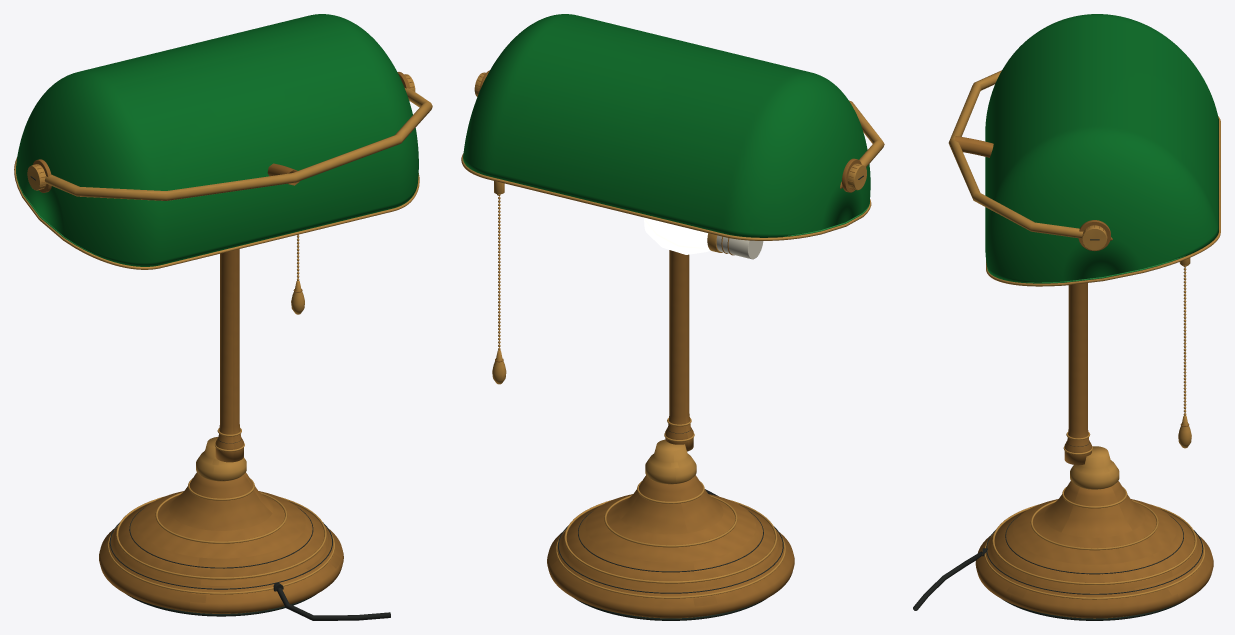
Rendered from BankersLamp.fbx.
The picture shows the model from 3 angles, left to right: view 1: azimuth 30°, elevation 25°; view 2: azimuth 150°, elevation 25°; view 3: azimuth 270°, elevation 25°; orthographic projection. The views are drawn at different scales.
Visible parts, largest first — view 1: Shade_GreenGlass, Base_SpunBrass, Shade_RearYoke, Stem_CurvedBrass, Shade_RolledBrassLip, Stem_Collar, Base_PolishedMolding_02, Cord_RearLead, Base_PolishedMolding_01, Base_PolishedMolding_03; view 2: Shade_GreenGlass, Base_SpunBrass, Stem_CurvedBrass, Stem_Collar, Shade_RolledBrassLip, Bulb_OpalTube, Base_PolishedMolding_02, Socket_CeramicSleeve, Base_PolishedMolding_01, Shade_RearYoke, Base_PolishedMolding_03; view 3: Shade_GreenGlass, Base_SpunBrass, Stem_CurvedBrass, Shade_RearYoke, Stem_Collar, Shade_RolledBrassLip, Base_PolishedMolding_02, Base_PolishedMolding_01, Base_PolishedMolding_03, Stem_RearSwanNeck, Shade_PivotCap_1, Cord_RearLead (+2 smaller).
Part boxes in pixels (x1,y1,x2,y2): Shade_GreenGlass: (16, 14, 418, 266); Base_SpunBrass: (99, 472, 343, 613); Shade_RearYoke: (45, 88, 432, 200); Stem_CurvedBrass: (215, 249, 243, 462); Shade_RolledBrassLip: (14, 157, 419, 269); Stem_Collar: (196, 436, 246, 481); Base_PolishedMolding_02: (116, 496, 326, 579); Cord_RearLead: (277, 588, 390, 620); Base_PolishedMolding_01: (107, 525, 334, 594); Base_PolishedMolding_03: (155, 492, 287, 543); Shade_GreenGlass: (463, 14, 870, 237); Base_SpunBrass: (547, 475, 794, 618); Stem_CurvedBrass: (665, 250, 693, 451); Stem_Collar: (645, 439, 696, 484); Shade_RolledBrassLip: (461, 153, 871, 240); Bulb_OpalTube: (644, 217, 710, 254); Base_PolishedMolding_02: (564, 500, 777, 583); Socket_CeramicSleeve: (716, 235, 763, 259); Base_PolishedMolding_01: (556, 529, 785, 598); Shade_RearYoke: (849, 100, 884, 167); Base_PolishedMolding_03: (604, 495, 737, 547); Shade_GreenGlass: (985, 14, 1218, 283); Base_SpunBrass: (975, 481, 1213, 618); Stem_CurvedBrass: (1064, 283, 1091, 465); Shade_RearYoke: (948, 70, 1083, 238); Stem_Collar: (1070, 446, 1119, 489); Shade_RolledBrassLip: (986, 116, 1220, 286); Base_PolishedMolding_02: (992, 504, 1196, 584); Base_PolishedMolding_01: (984, 533, 1205, 599); Base_PolishedMolding_03: (1030, 500, 1158, 550); Stem_RearSwanNeck: (954, 136, 993, 157); Shade_PivotCap_1: (1082, 225, 1106, 250); Cord_RearLead: (913, 551, 982, 610).
Size of the model in its own units: 0.3089 by 0.4062 by 0.225.
Materials: 10 (3 with a texture image).
